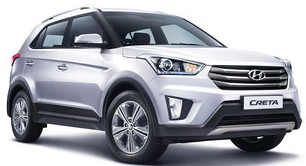car: (7, 6, 302, 164)
